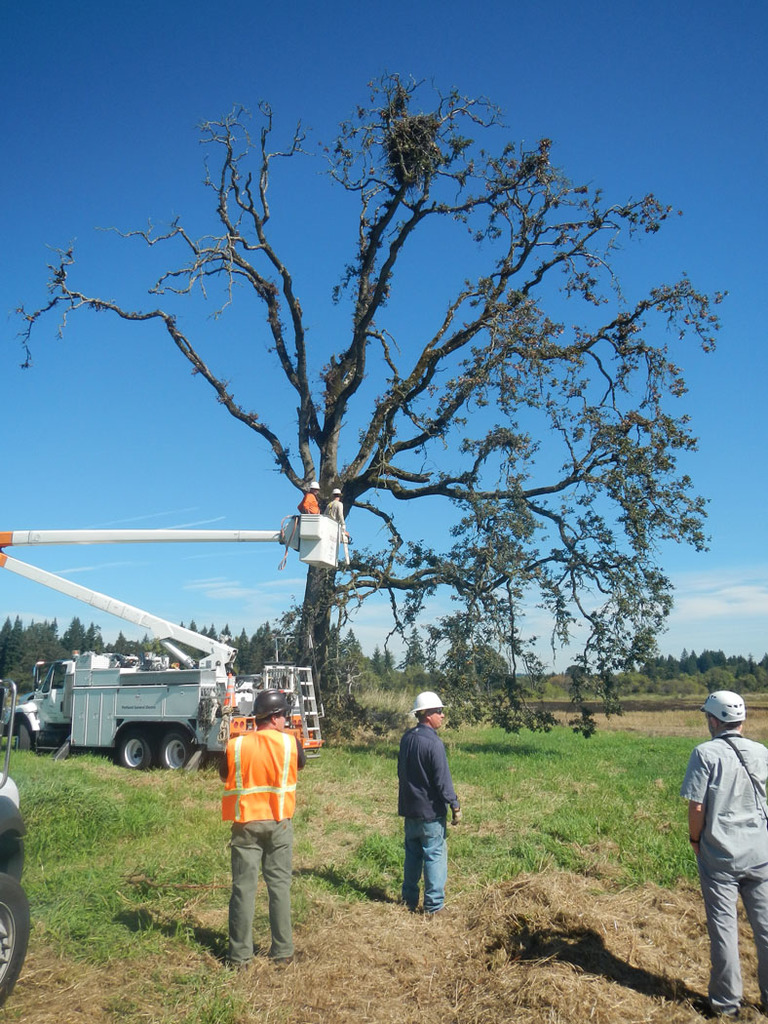Tree: (33, 34, 750, 797)
